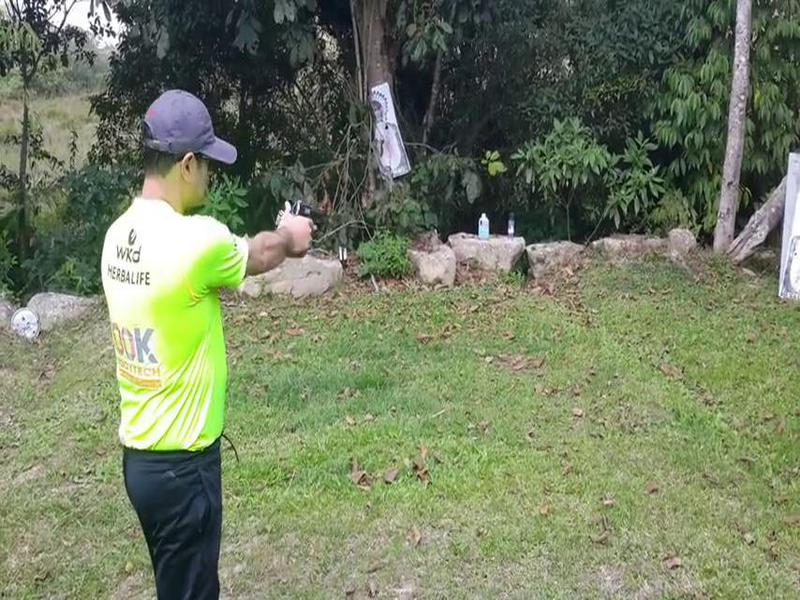Pistola: (287, 194, 334, 243)
